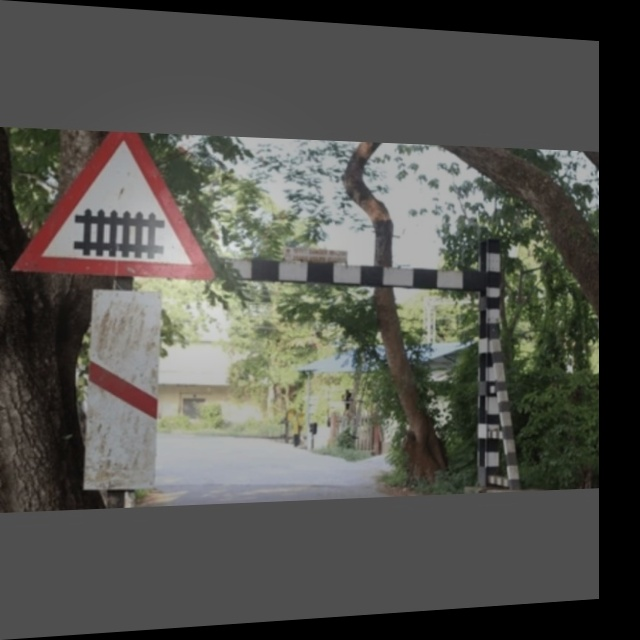Guarded_Level_Crossing: (27, 136, 213, 282)
